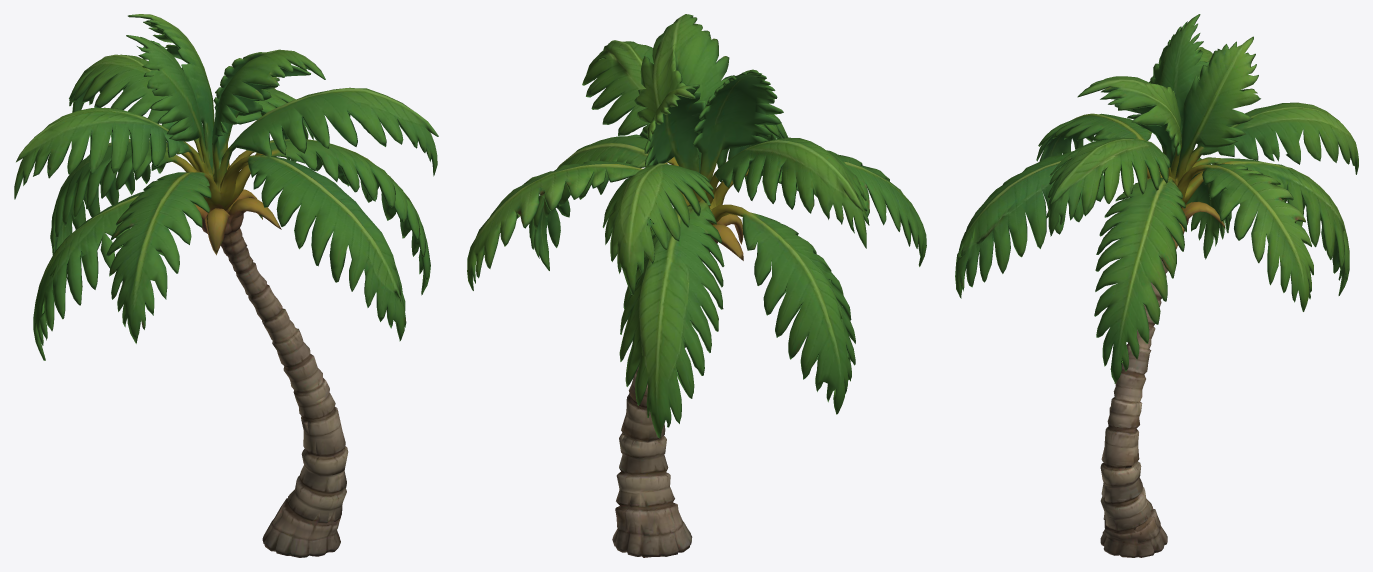
Rendered from pack-palm-tree.glb.
The picture shows the model from 3 angles, left to right: view 1: azimuth 30°, elevation 25°; view 2: azimuth 150°, elevation 25°; view 3: azimuth 270°, elevation 25°; orthographic projection. The views are drawn at different scales.
Parts seen in each view (by area): view 1: tripo_node_0119c145-3acd-407e-81c0-2f54ae25fc1f; view 2: tripo_node_0119c145-3acd-407e-81c0-2f54ae25fc1f; view 3: tripo_node_0119c145-3acd-407e-81c0-2f54ae25fc1f.
Part boxes in pixels (left/top/right/bottom): tripo_node_0119c145-3acd-407e-81c0-2f54ae25fc1f: left=14, top=14, right=438, bottom=557; tripo_node_0119c145-3acd-407e-81c0-2f54ae25fc1f: left=467, top=14, right=926, bottom=557; tripo_node_0119c145-3acd-407e-81c0-2f54ae25fc1f: left=955, top=14, right=1358, bottom=557.
Size of the model in its own units: 0.7219 by 0.9785 by 0.7602.
Materials: 1 (1 with a texture image).
